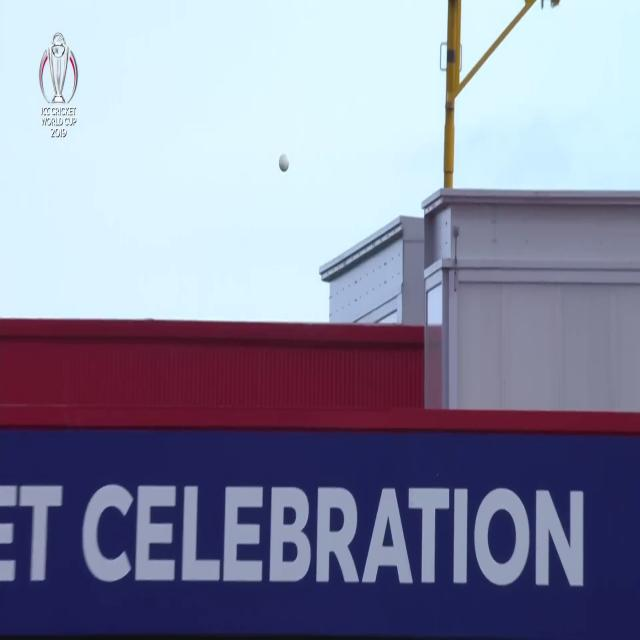ball: (275, 150, 292, 178)
